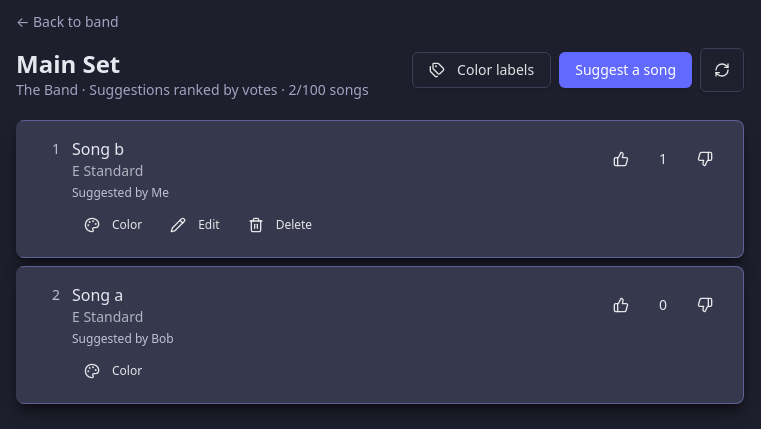
Test: SetListPage › clicking the active arrow retracts; clicking the other arrow switches
Expected: the text "Song a" is shown, [72,284,123,306]
Click the button named "Upvote Song a".
click(621, 305)  # box [599,283,643,327]
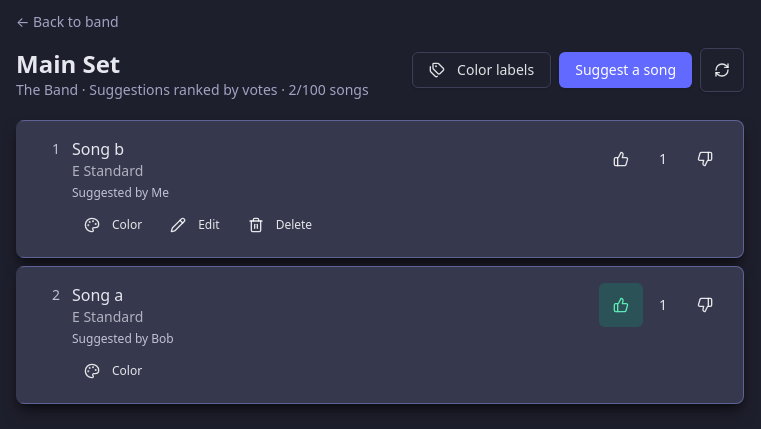
Click the button named "Downvote Song a".
click(705, 305)  # box [683,283,727,327]
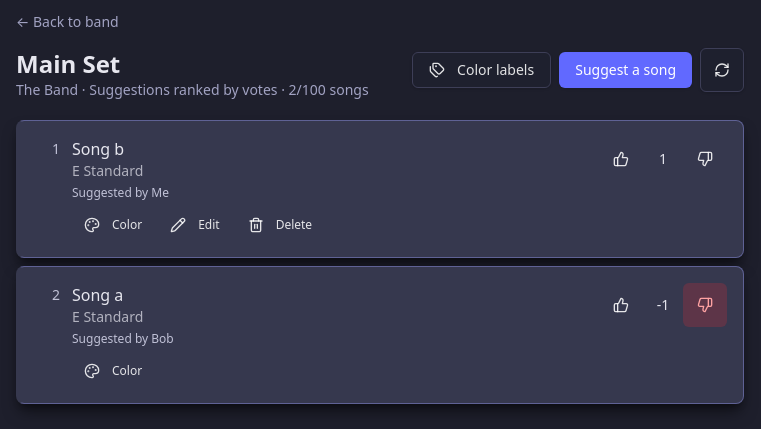
Now the message named "Score" reads "-1", box [657,295,669,314]
Click the button named "Downvote Song a".
click(705, 305)  # box [683,283,727,327]
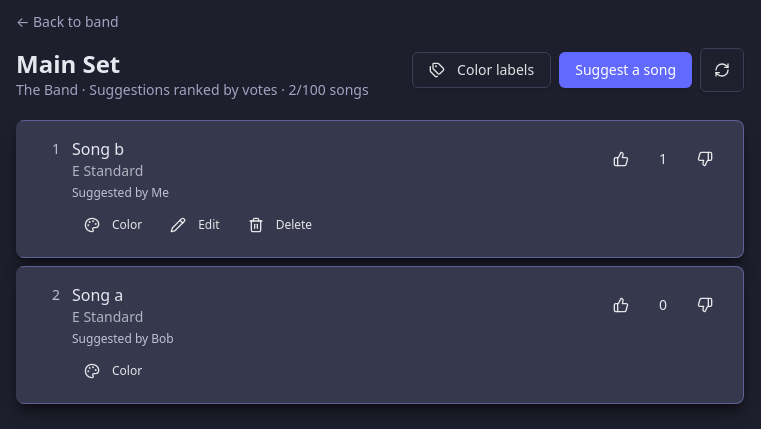
Now the message named "Score" reads "0", box [659,295,667,314]
